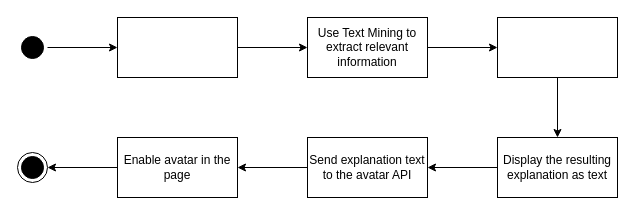
This 635x215 diagram has some shape labels left out. The centre of each missing label's shape, as x and y in pixels:
"Taking user input string" belongs at (x=177, y=47).
"Verify how many words are present in the avatar DB" belongs at (x=557, y=47).
